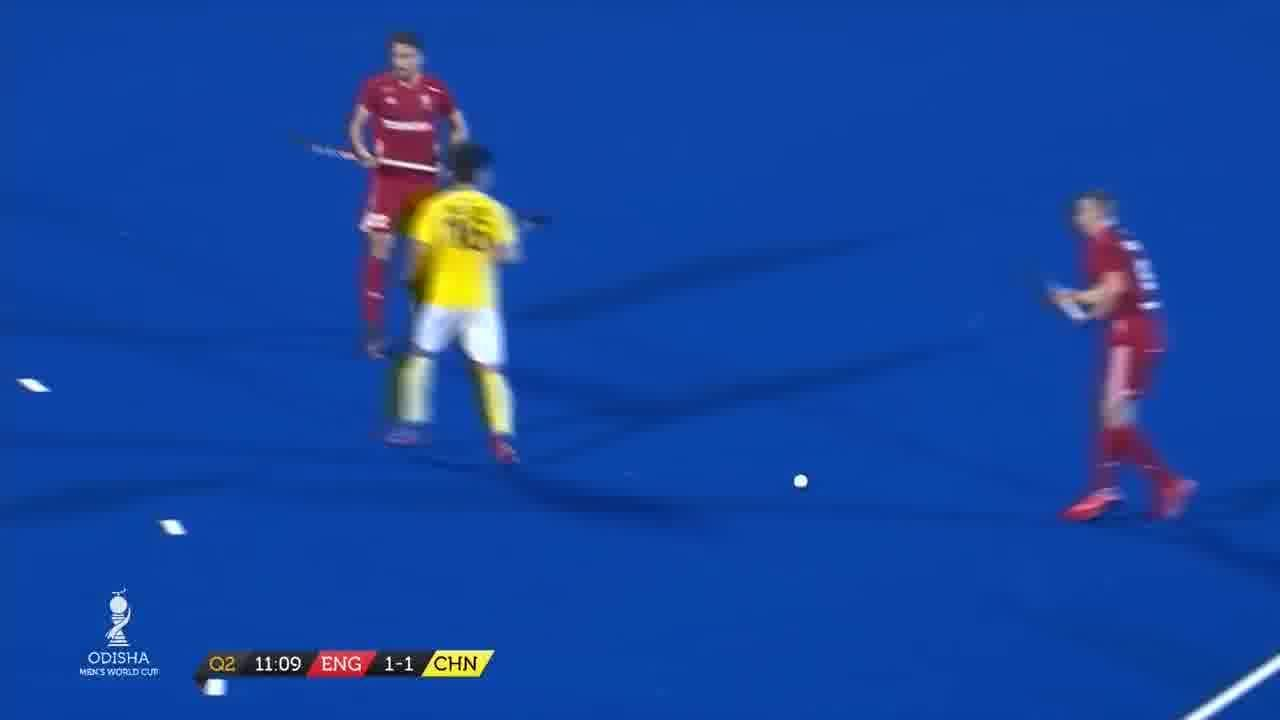ball: (790, 468, 818, 496)
